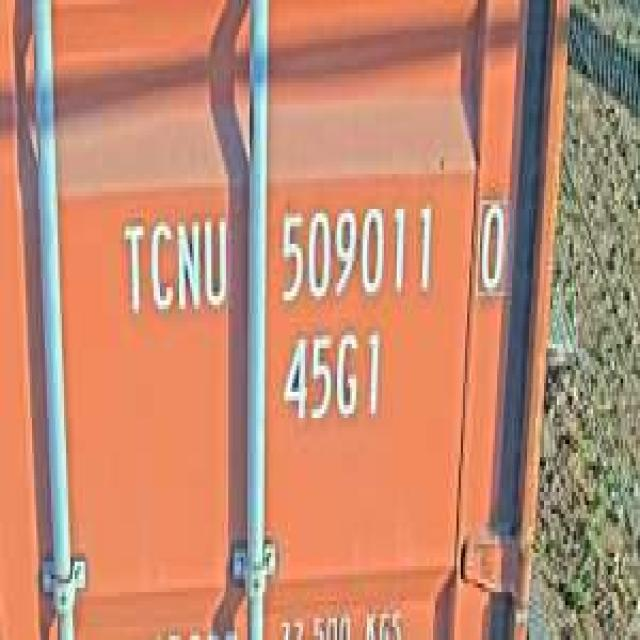dv: (471, 183, 510, 305)
owner: (117, 205, 230, 326)
serial: (273, 192, 440, 309)
size: (277, 318, 386, 435)
